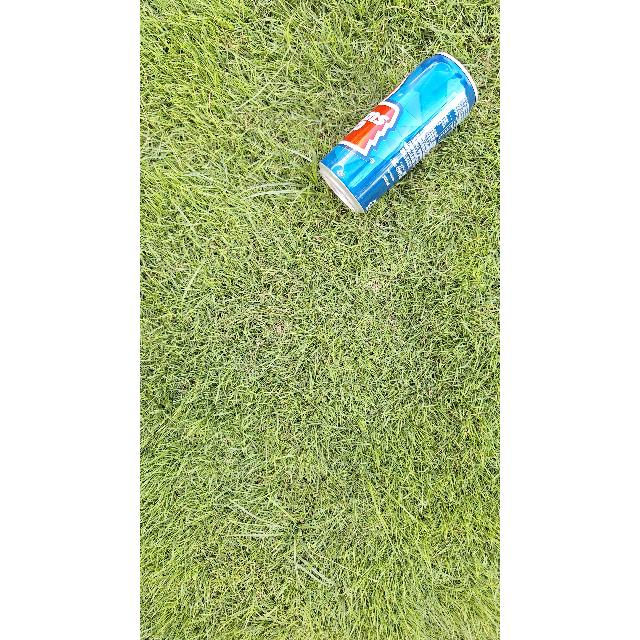Thums Up: (310, 49, 478, 214)
